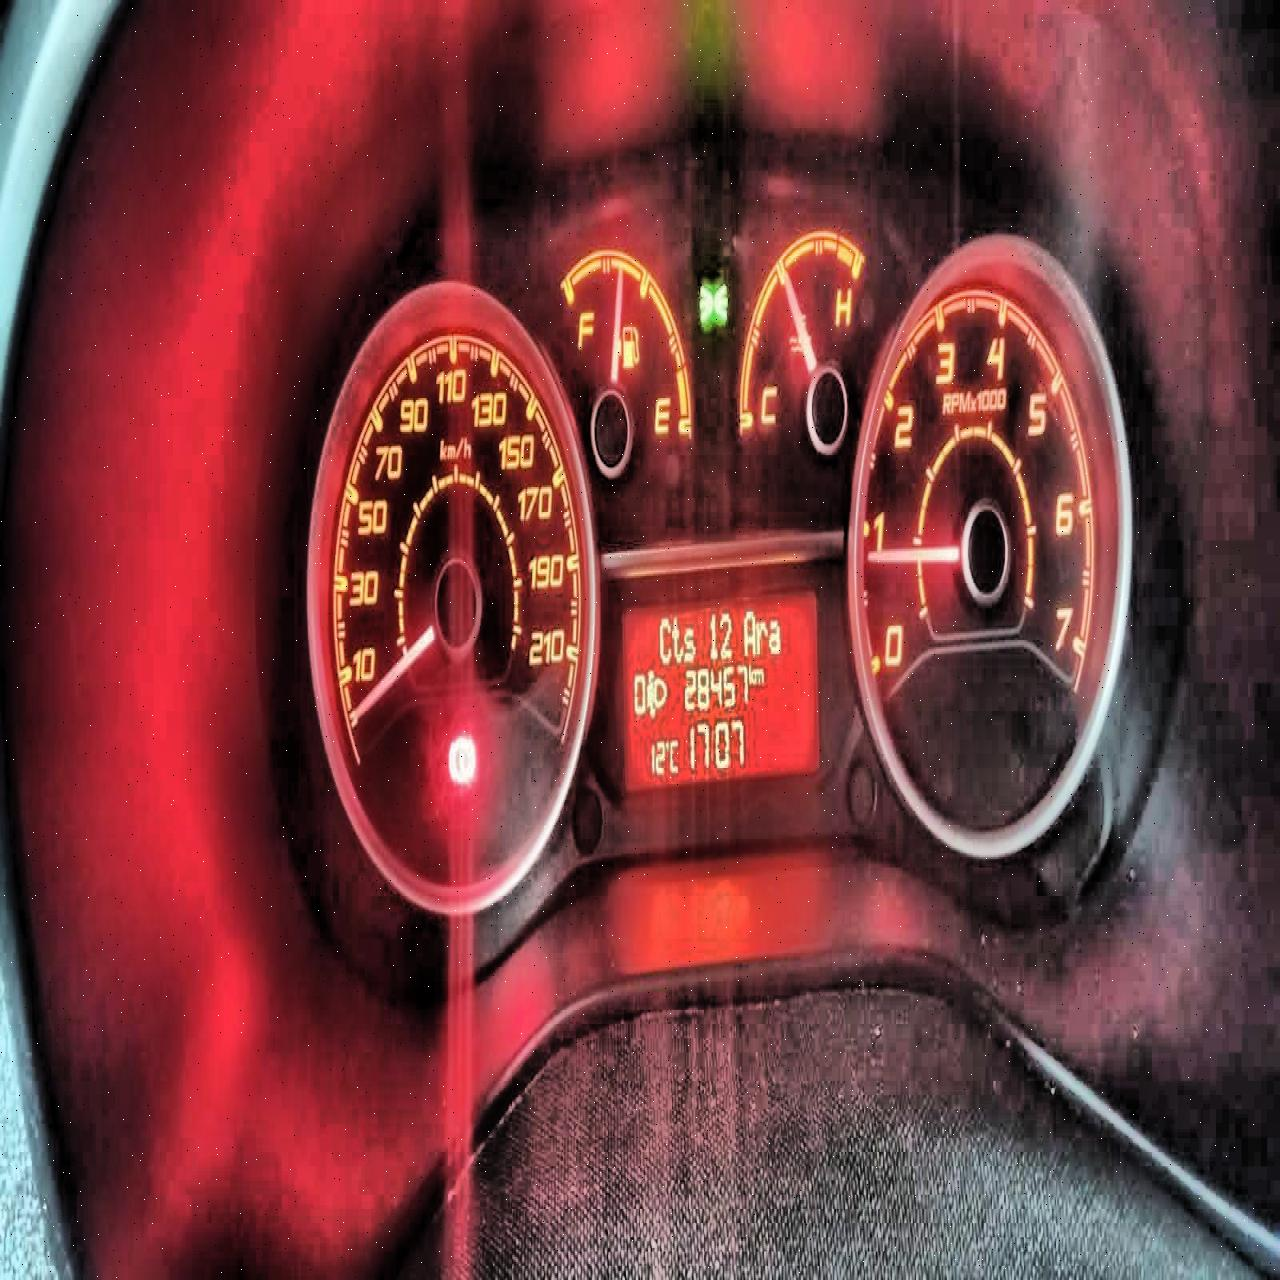0: (714, 719, 729, 770), (632, 670, 646, 716)
1: (708, 610, 719, 661), (688, 720, 695, 770), (649, 740, 655, 774)
2: (720, 608, 733, 660), (682, 665, 695, 713), (655, 737, 663, 775)
4: (709, 667, 722, 708)
5: (722, 661, 735, 708)
7: (729, 715, 744, 767), (696, 720, 709, 768), (736, 661, 748, 702)
8: (696, 665, 710, 712)
X: (658, 615, 672, 667), (670, 613, 683, 663), (742, 606, 755, 656), (768, 617, 781, 656), (755, 617, 767, 656), (683, 624, 695, 663), (669, 734, 679, 775), (708, 727, 714, 763), (754, 665, 764, 685), (749, 661, 754, 685)
odometer: (618, 583, 823, 798)
